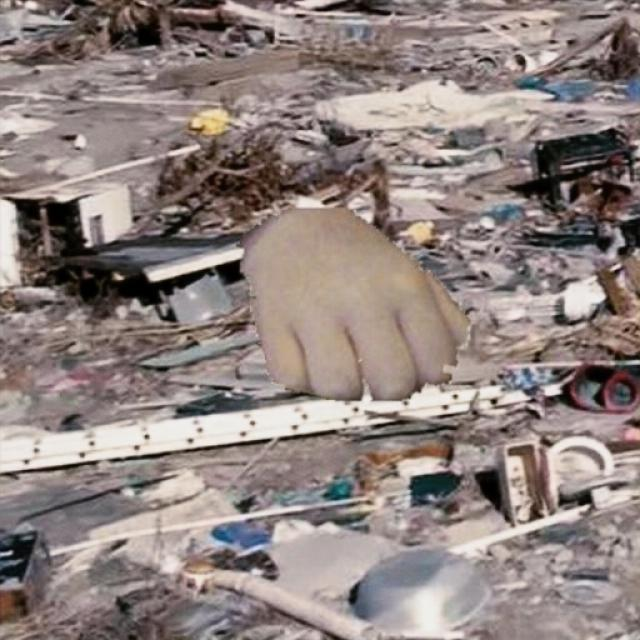Person in Rubble: (237, 208, 472, 400)
